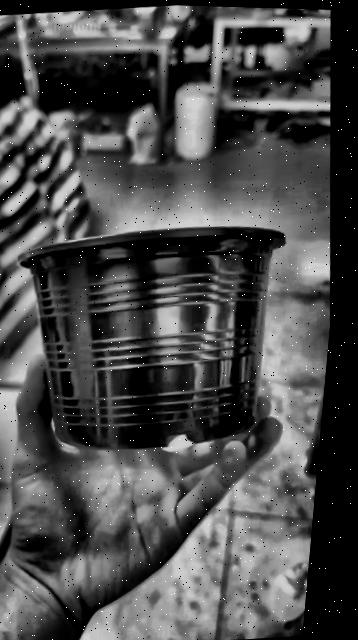pot: (18, 226, 284, 449)
